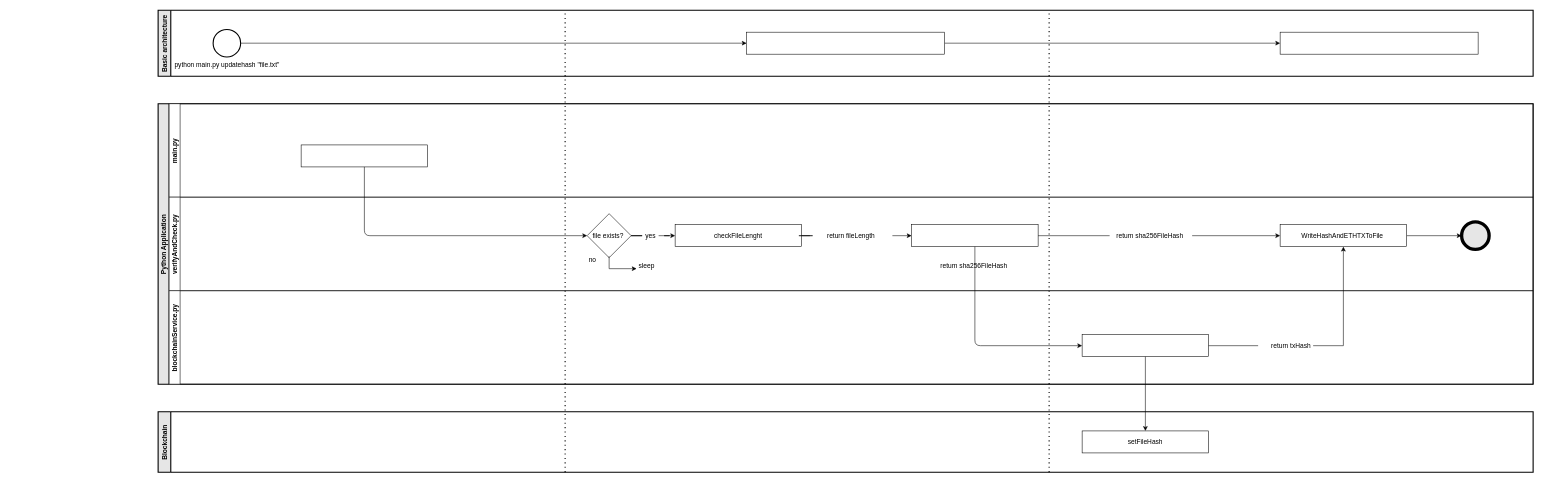
Some shapes in this 1543 by 482 pixel diagram are drawn without their labels. The centre of each missing label's shape, as x and y in pixels:
"Hash File" belongs at (x=845, y=43).
"hashFile[0 : fileLength]" belongs at (x=974, y=235).
"updatehash(filename: str)" belongs at (x=364, y=155).
"Write hash to file and blockchain" belongs at (x=1379, y=43).
"writeHashToBlockchain" belongs at (x=1145, y=345).
